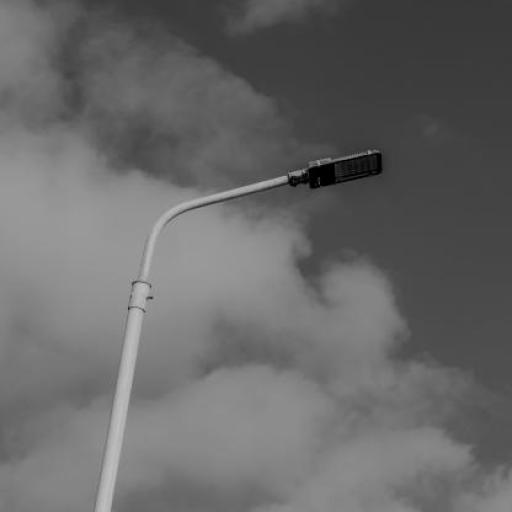street light: (95, 148, 382, 510)
